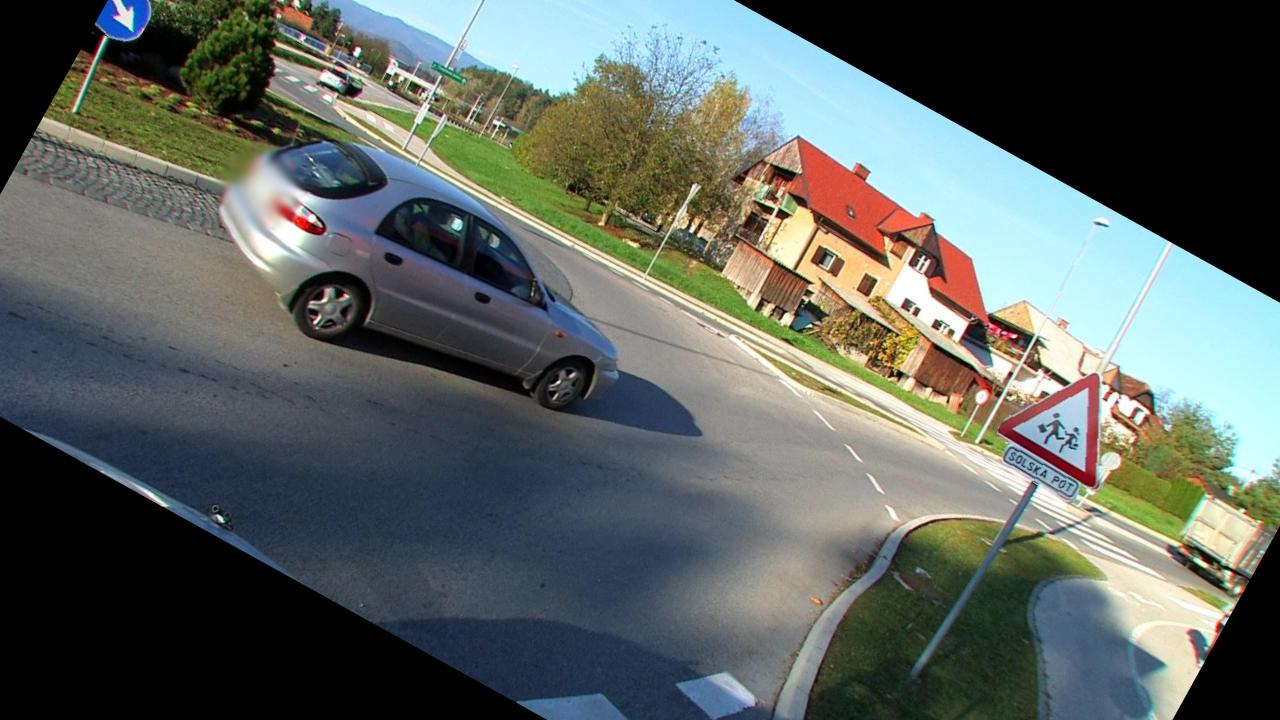Rectangle: (996, 442, 1084, 505)
Round: (92, 0, 162, 51)
Triangle: (994, 345, 1148, 494)
